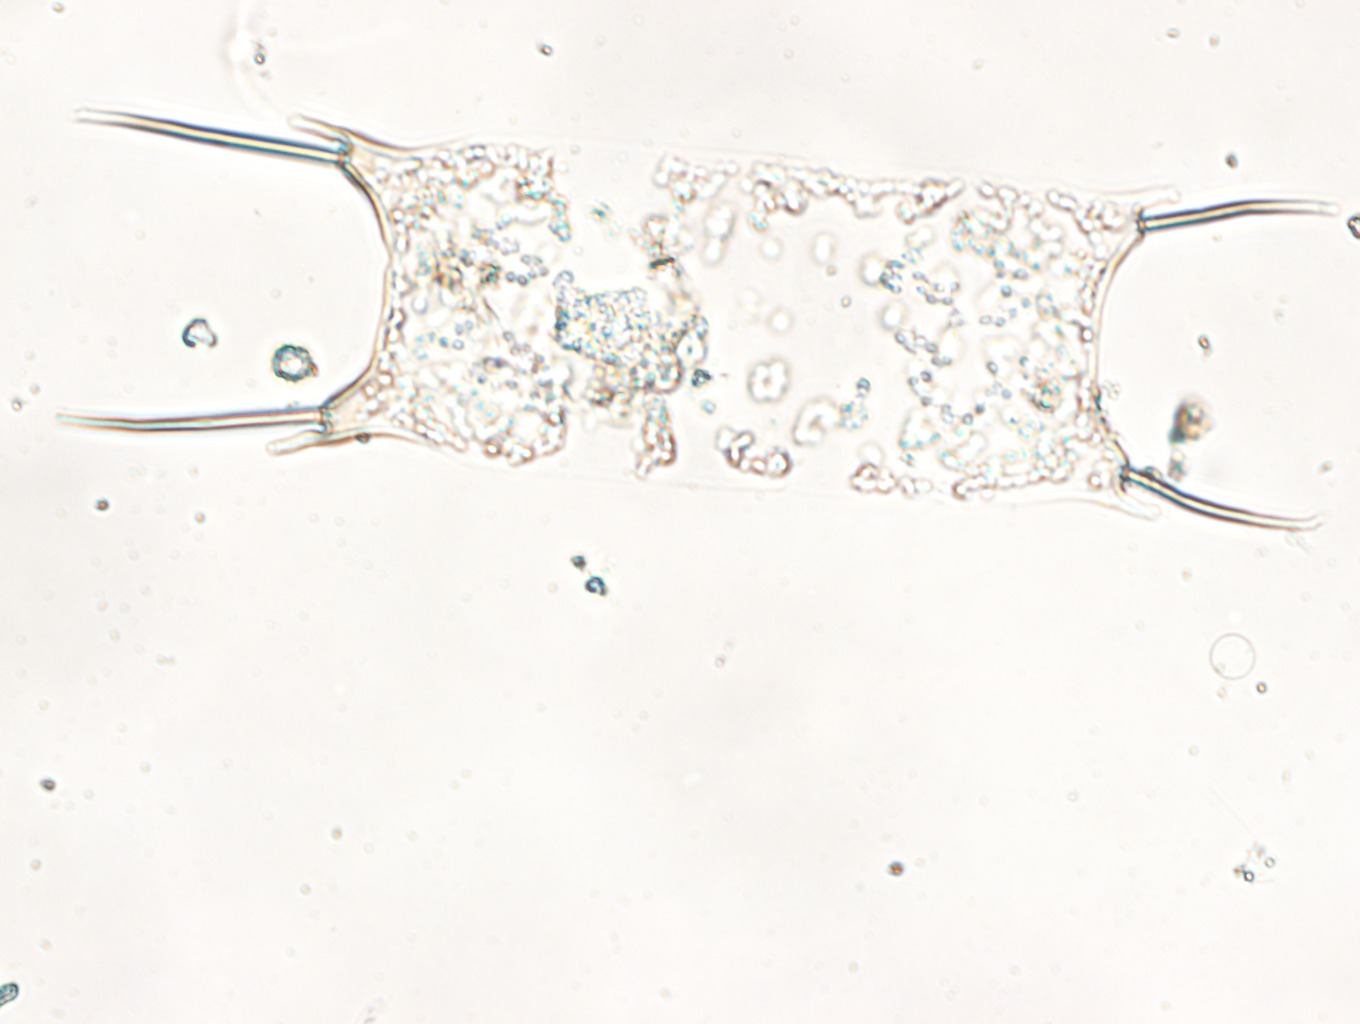biddulphia: (51, 97, 1343, 536)
